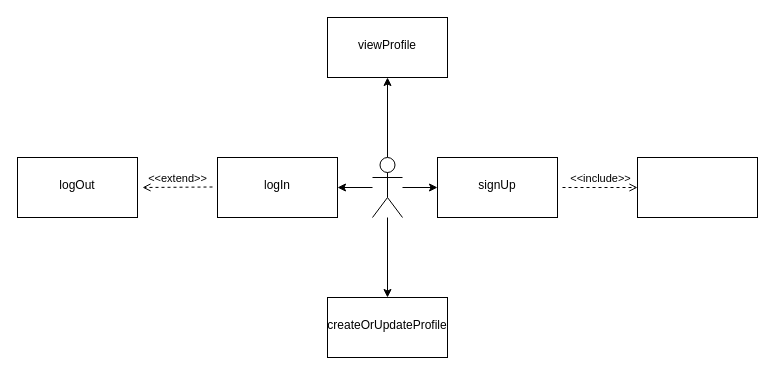
Image size: 775x375. Some labels were removed from this diagram. Here are the shapes that lost their labels. From the top down, the box of each, then its label:
(372, 156, 402, 218): User
(636, 156, 758, 218): VerifyEmail
